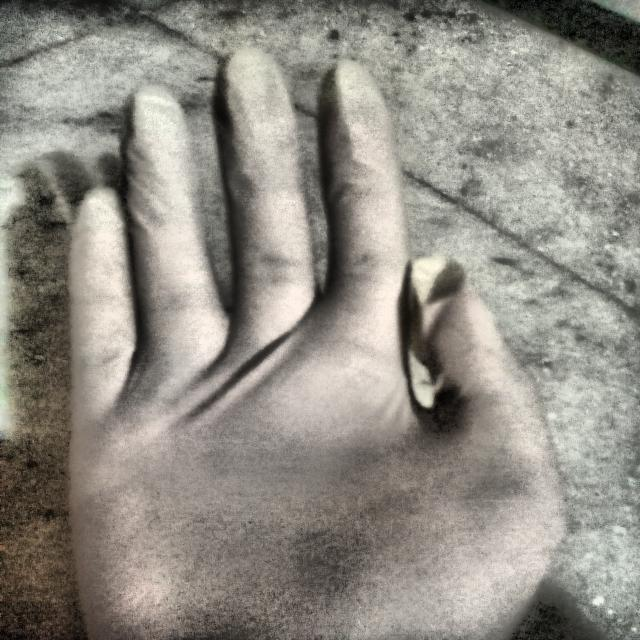gloved: (62, 32, 580, 636)
